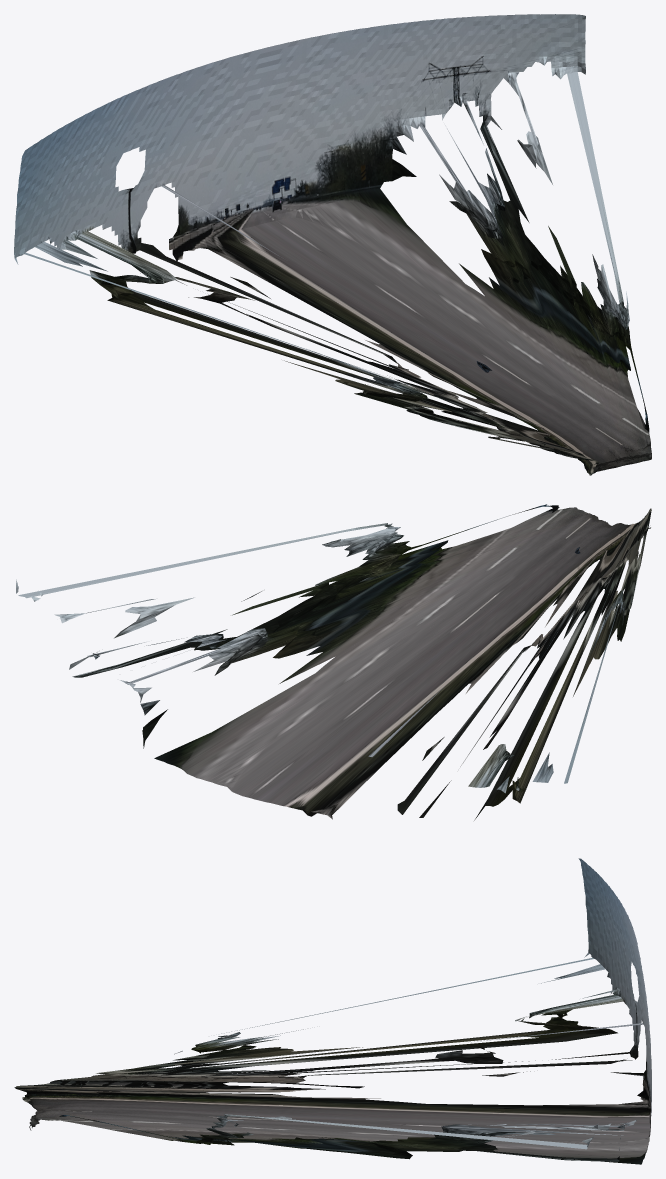
3 views of the same model, one above another, from view 1: azimuth 30°, elevation 25°; view 2: azimuth 150°, elevation 25°; view 3: azimuth 270°, elevation 25° (orthographic). The views are drawn at different scales.
Visible parts, largest first — view 1: defaultobject; view 2: defaultobject; view 3: defaultobject.
Boxes of the visible parts, x1,y1,x2,y2 form: defaultobject: (14,14,651,475); defaultobject: (16,504,651,820); defaultobject: (14,858,651,1164).
Bounding box in the file's own units: 40.95 × 13.19 × 45.32.
Materials: 1 (1 with a texture image).
